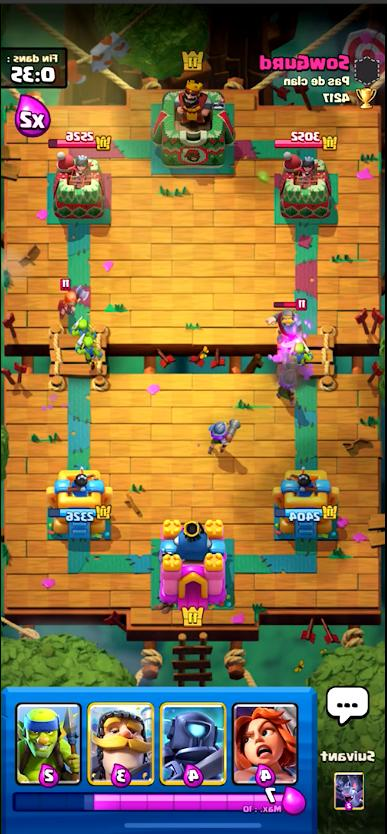chevalier: (271, 300, 303, 345)
gobelin: (76, 332, 102, 363), (289, 341, 311, 369), (72, 313, 92, 333)
mousquetaire: (209, 417, 239, 449)
valkyrie: (56, 277, 91, 321)
